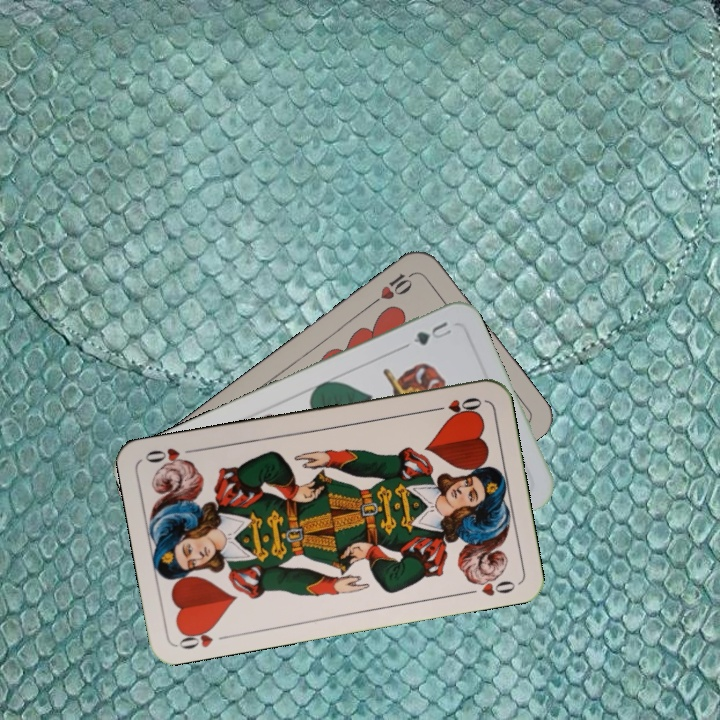GU: (409, 317, 455, 348)
H10: (367, 268, 419, 308)
HO: (427, 393, 485, 418), (175, 622, 218, 652)
